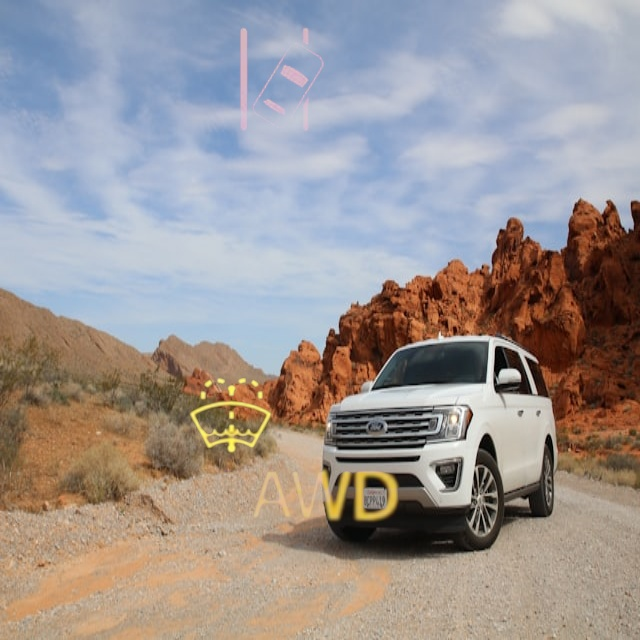symbol: (54, 155, 264, 365), (226, 400, 420, 594), (205, 6, 358, 159), (165, 350, 298, 483)
